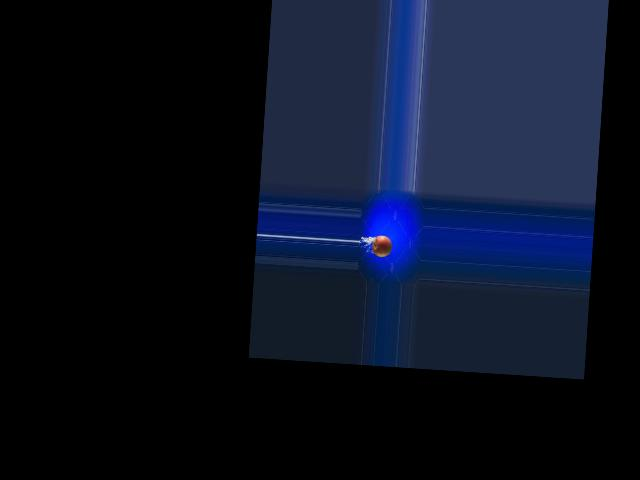tomato: (371, 235, 392, 258)
